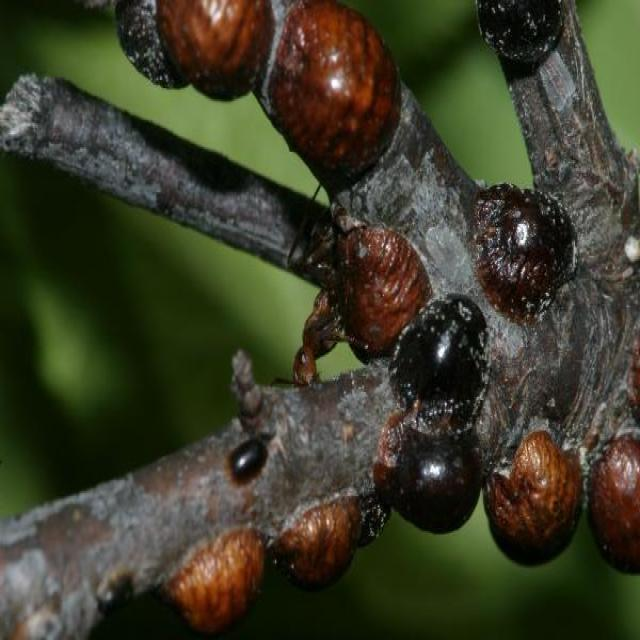Black Scale: (329, 203, 487, 430), (267, 0, 400, 181), (82, 0, 273, 99), (473, 182, 576, 322), (483, 430, 580, 563), (373, 413, 479, 533), (162, 526, 265, 634), (273, 498, 389, 589), (476, 0, 565, 83), (589, 435, 639, 573), (227, 437, 271, 485)
